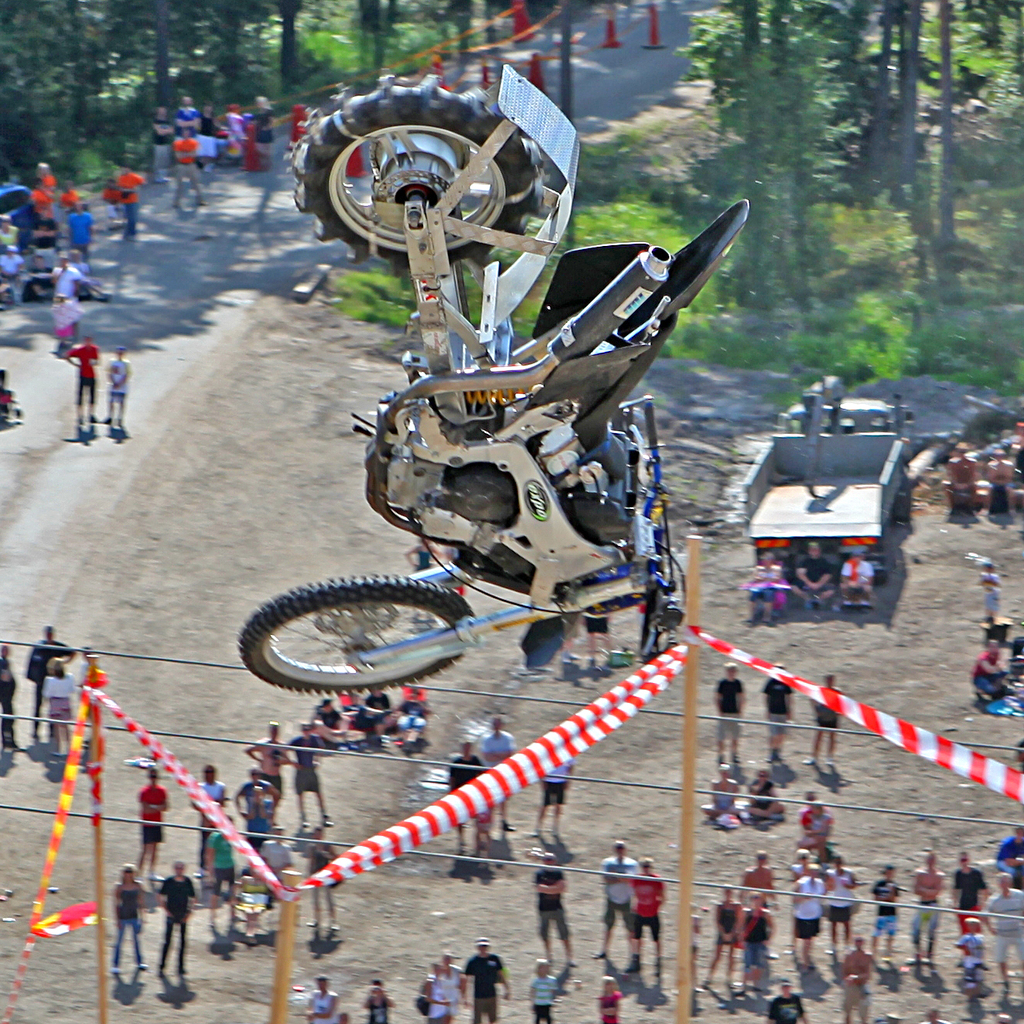Person: (0, 97, 1023, 1024)
